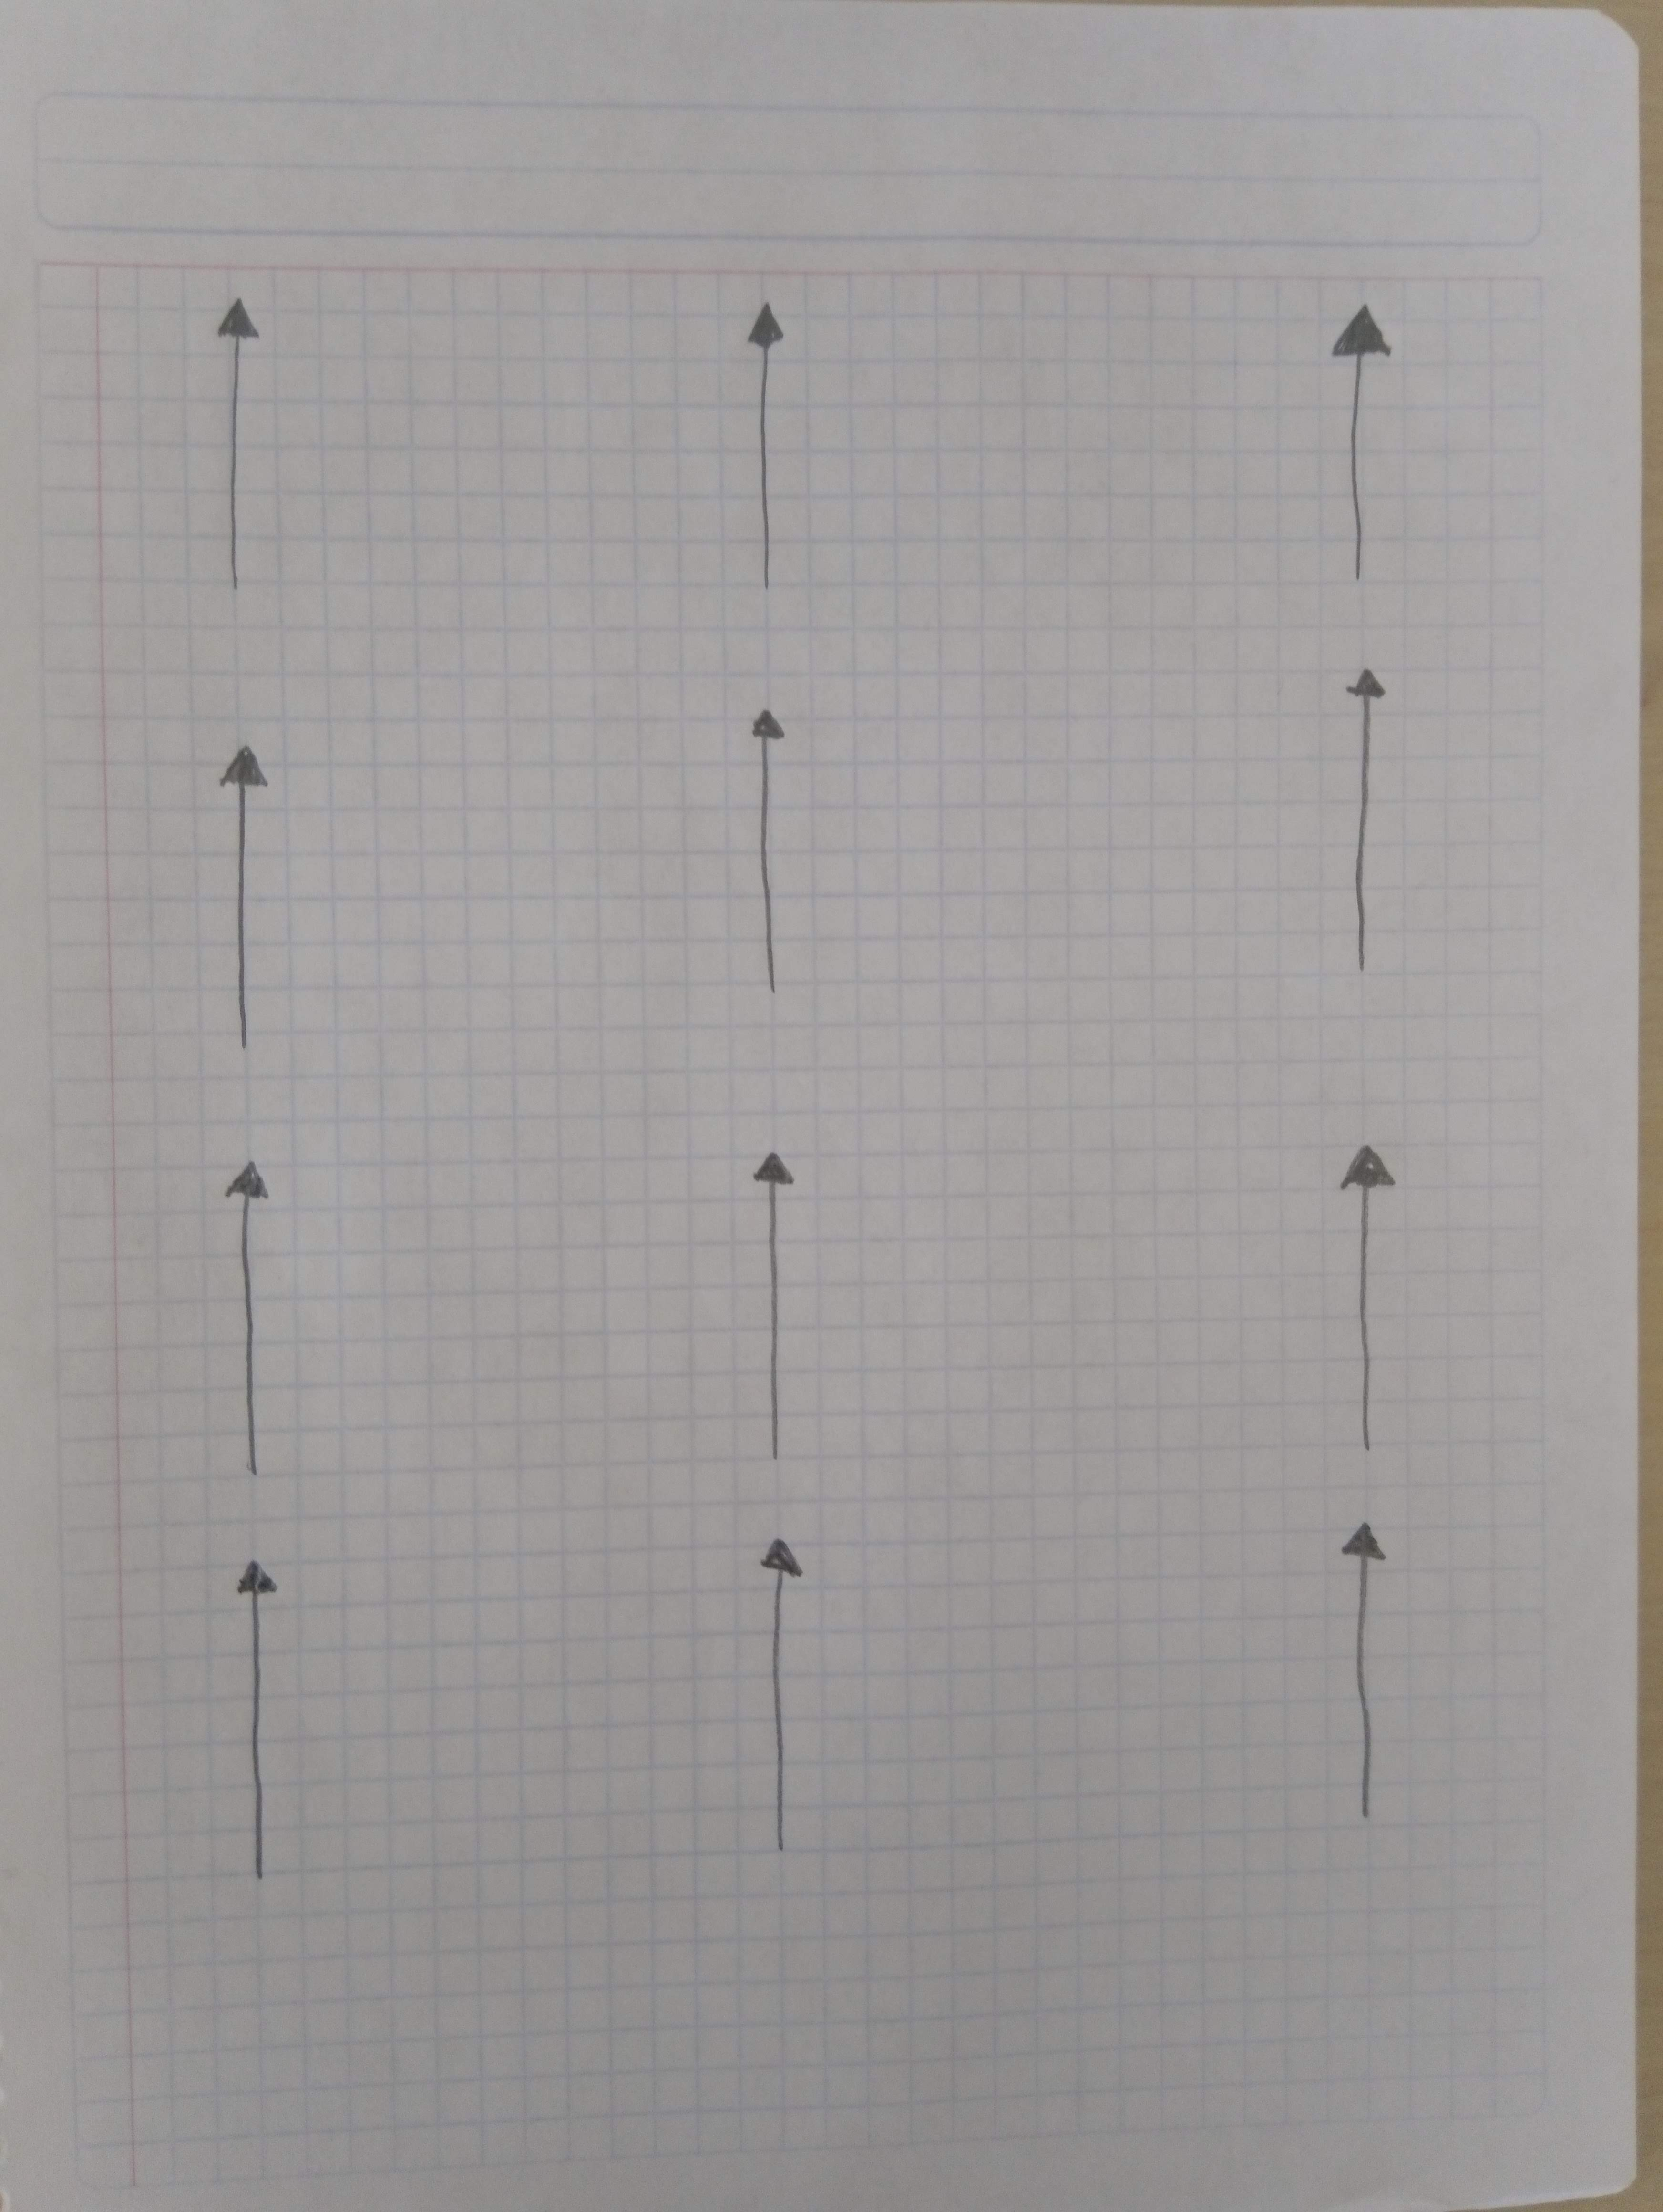arrow_line_up: (711, 302, 854, 667), (1308, 1131, 1438, 1475), (1305, 1510, 1432, 1847), (185, 705, 297, 1023), (714, 698, 825, 1016), (1321, 276, 1420, 627), (185, 241, 273, 613), (1312, 655, 1406, 999), (739, 1526, 844, 1821), (215, 1138, 300, 1487), (215, 1550, 288, 1917), (734, 1140, 809, 1491)
